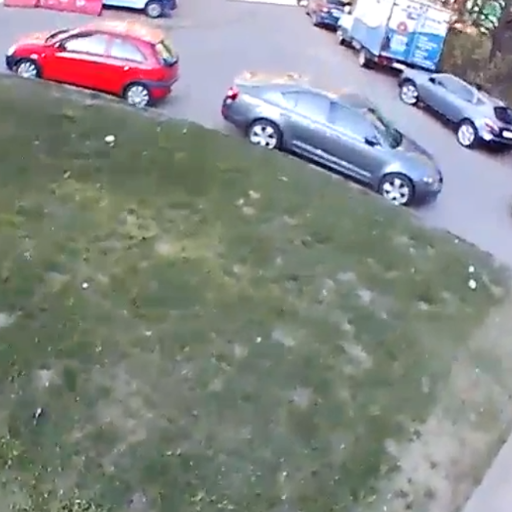Car: (225, 67, 442, 209), (8, 20, 176, 114), (401, 62, 509, 153), (336, 2, 444, 78), (306, 0, 348, 29)
